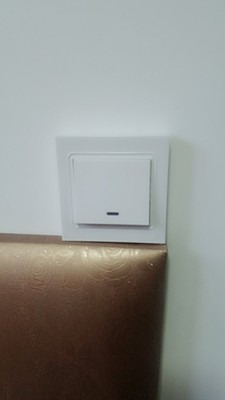switch: (71, 159, 150, 224)
